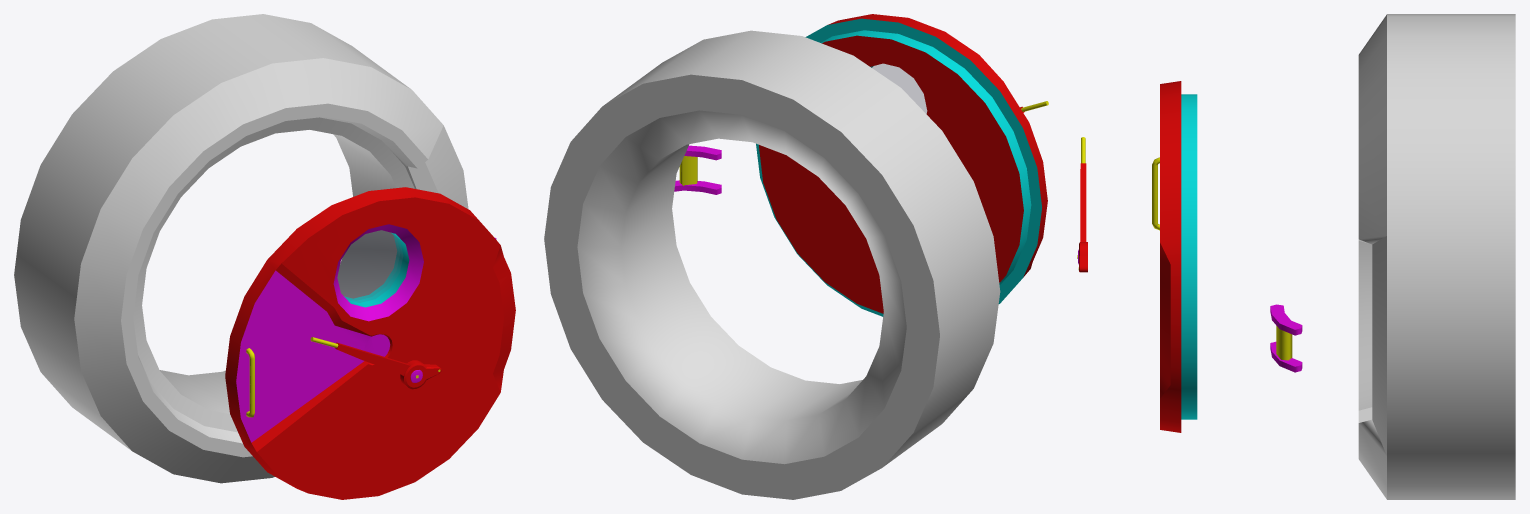
The model's file is space_door_uvd_paint_2.fbx.
The picture shows the model from 3 angles, left to right: view 1: azimuth 30°, elevation 25°; view 2: azimuth 150°, elevation 25°; view 3: azimuth 270°, elevation 25°; orthographic projection. The views are drawn at different scales.
Visible parts, largest first — view 1: polySurface197, polySurface213, polySurface277; view 2: polySurface197, polySurface213, polySurface224; view 3: polySurface197, polySurface213, polySurface224, polySurface277.
Boxes of the visible parts, x1,y1,x2,y2 form: polySurface197: [14, 14, 468, 483]; polySurface213: [225, 187, 515, 499]; polySurface277: [310, 337, 441, 389]; polySurface197: [544, 30, 1000, 499]; polySurface213: [756, 14, 1047, 316]; polySurface224: [674, 145, 721, 194]; polySurface197: [1358, 14, 1515, 499]; polySurface213: [1152, 81, 1197, 432]; polySurface224: [1270, 304, 1302, 372]; polySurface277: [1077, 137, 1087, 272].
Size of the model in its own units: 282 by 282 by 253.
